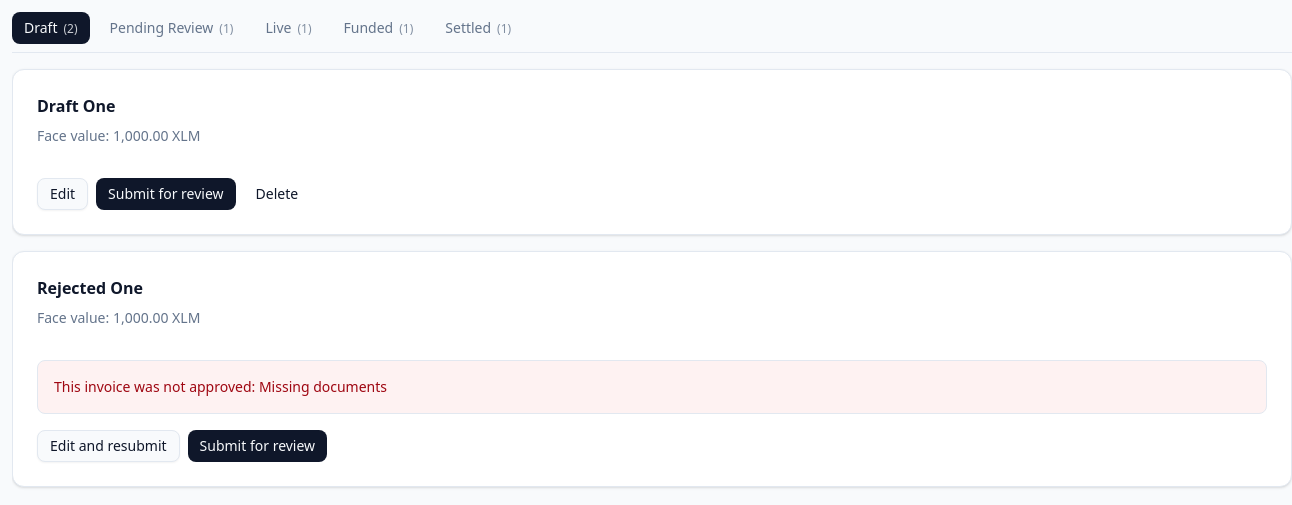
per-state actions › shows funding progress on the live tab and a payout summary on funded
Click the tab "Live(1)" at [289, 28], box [254,12,324,44]
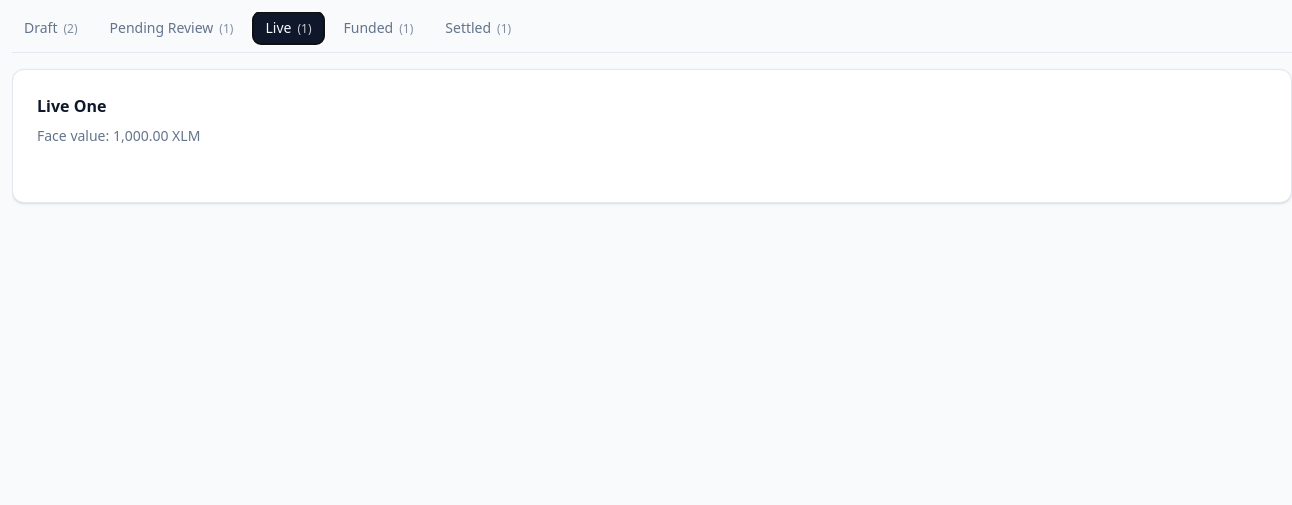
Click the tab "Funded(1)" at [378, 28], box [332,12,425,44]
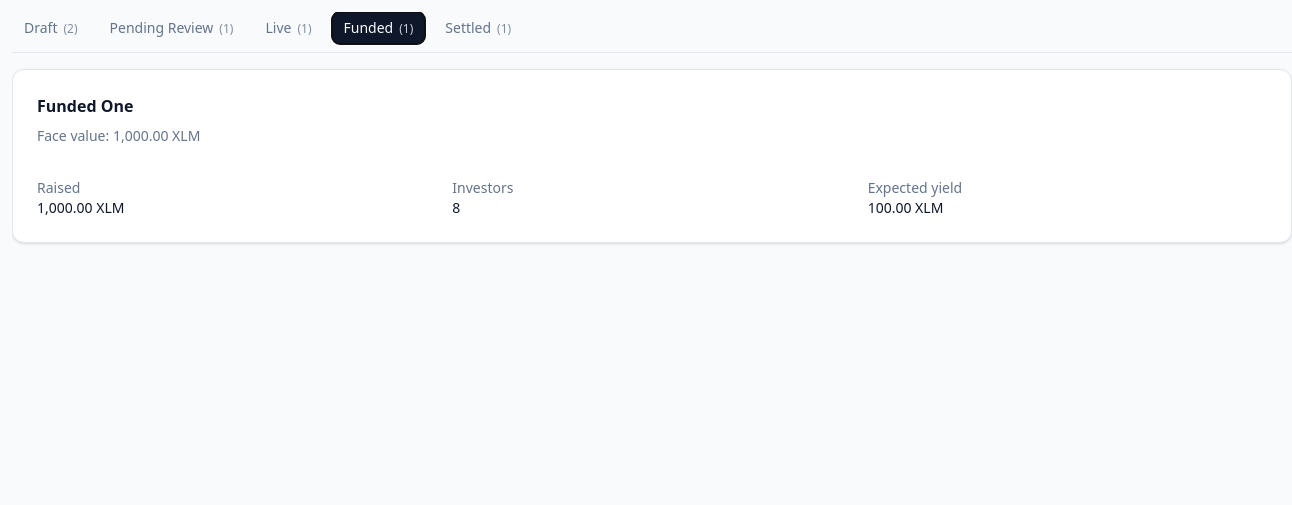
Expected: the element with test id "payout-summary" shows "8", [452,198,460,217]
Expected: the element with test id "payout-summary" shows "Expected yield", [868,178,962,197]
